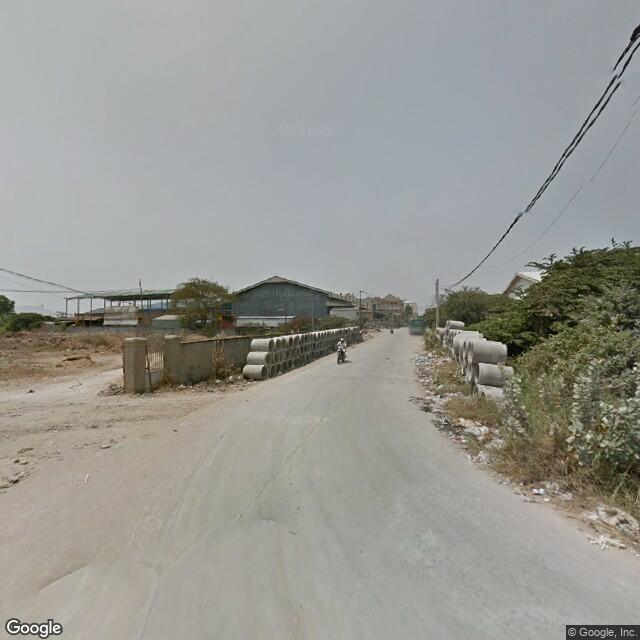litter: (584, 507, 639, 534), (588, 532, 632, 553), (458, 417, 493, 438), (433, 416, 453, 433)
